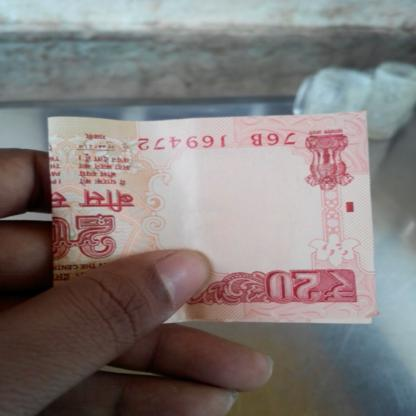Old20Front: (49, 117, 370, 320)
